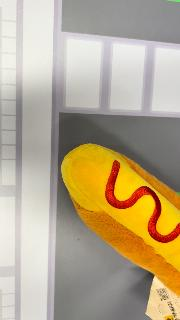hotdog: (61, 142, 179, 298)
